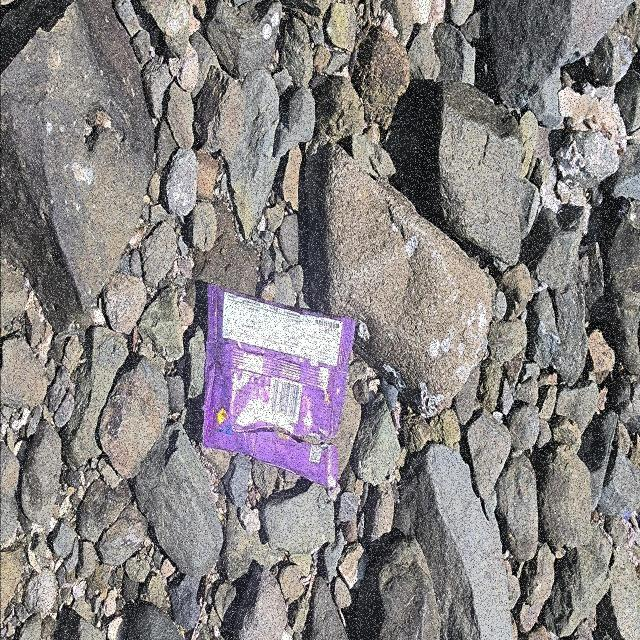plastic_waste: (201, 283, 357, 490)
